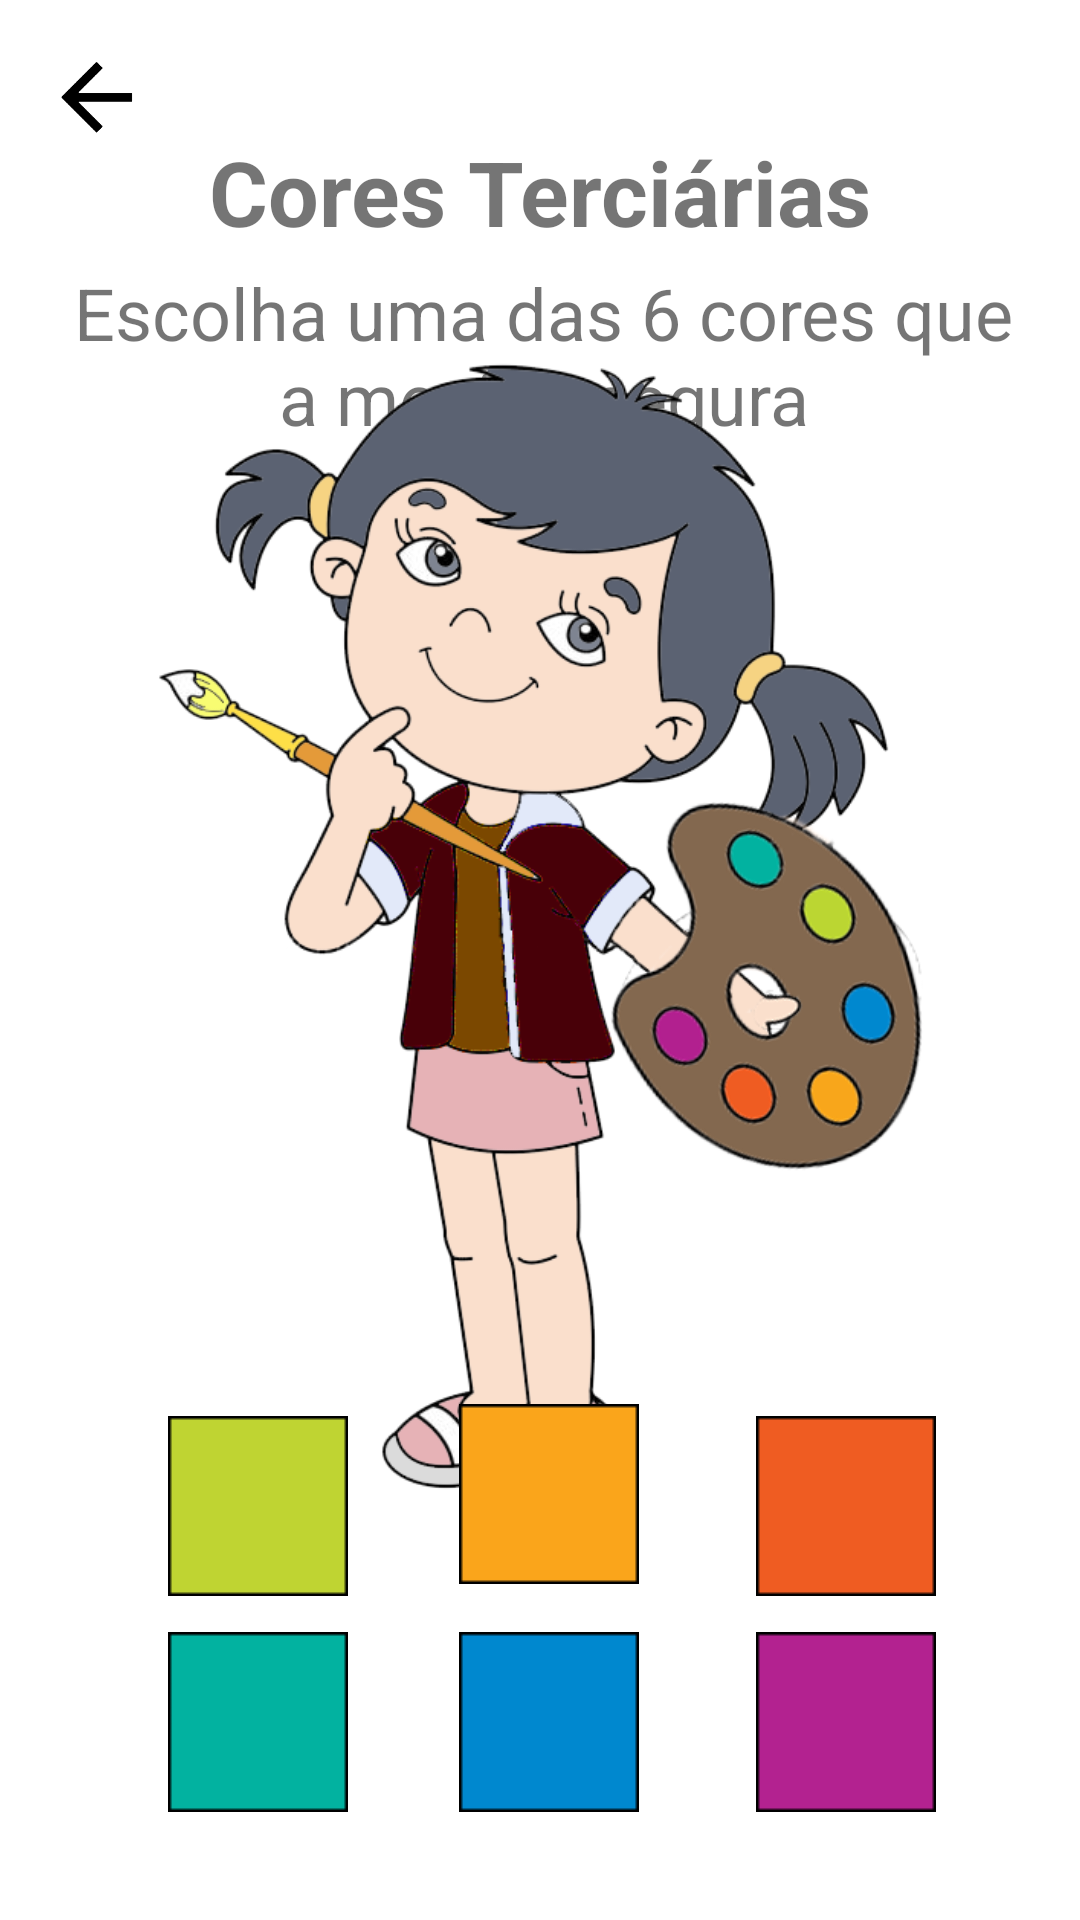

Screen size 1080 × 1920. Icon name, then its box in pixels as (x1, y1, x2, y2):
voltarp: (61, 62, 132, 133)
